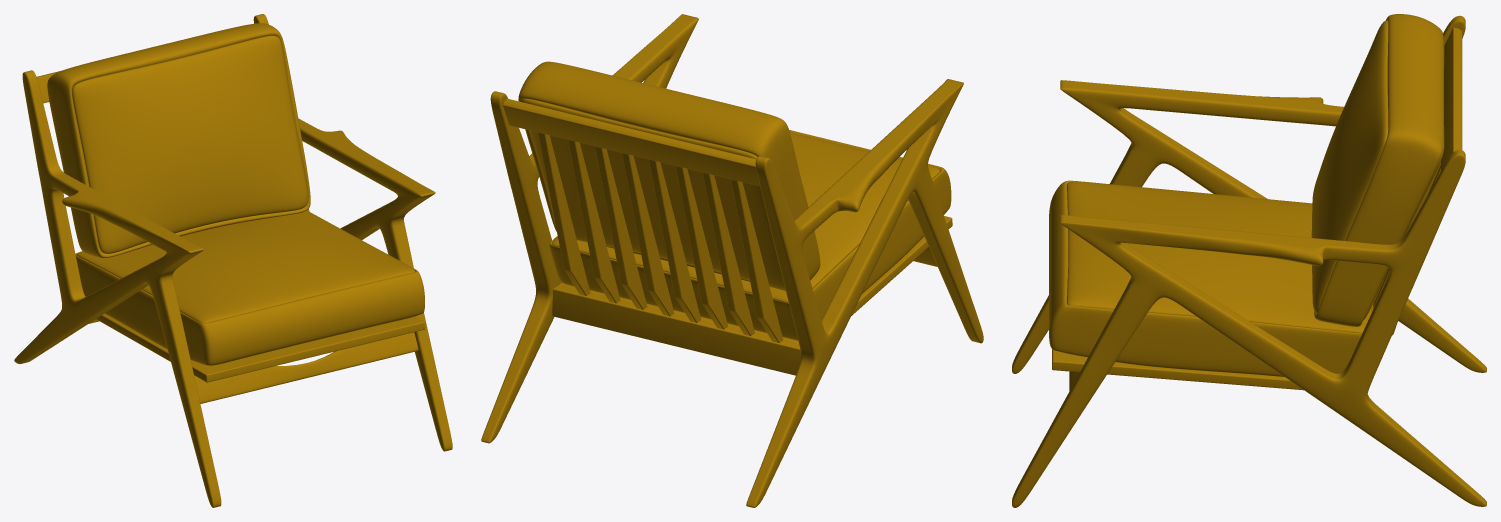
The model's file is chair1_medbrown.glb.
3 renders of one model, left to right at view 1: azimuth 30°, elevation 25°; view 2: azimuth 150°, elevation 25°; view 3: azimuth 270°, elevation 25°, orthographic. The views are drawn at different scales.
Visible parts, largest first — view 1: cushions, legs, supports, base; view 2: cushions, legs, back, supports, base; view 3: cushions, legs, base, supports.
Boxes of the visible parts, box(x1,y1,x2,y2) form: cushions: box(47, 23, 424, 365); legs: box(14, 14, 452, 507); supports: box(36, 23, 418, 403); base: box(96, 313, 425, 382); cushions: box(518, 61, 951, 340); legs: box(481, 14, 983, 507); back: box(538, 132, 783, 342); supports: box(502, 98, 937, 375); base: box(558, 216, 952, 344); cushions: box(1049, 14, 1444, 376); legs: box(1012, 15, 1486, 507); base: box(1052, 349, 1303, 390); supports: box(1069, 27, 1462, 390).
Bounding box in the file's own units: 1.8 × 1.9 × 2.22.
